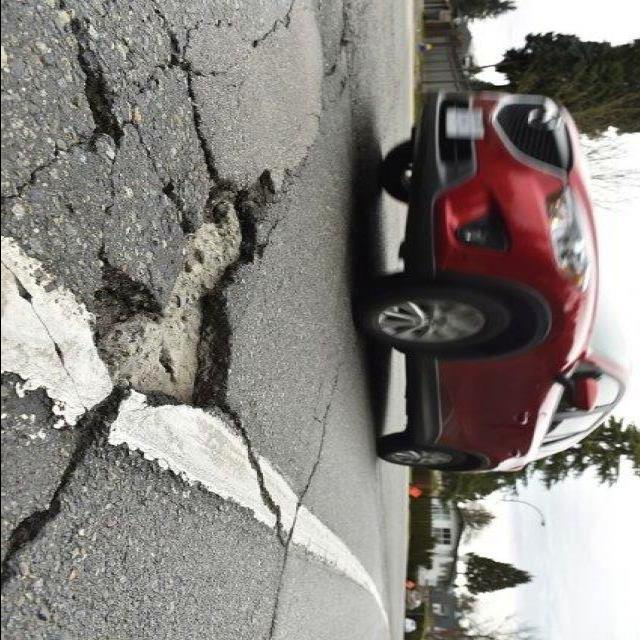jalan retak: (46, 0, 248, 178), (0, 411, 124, 624), (0, 238, 89, 386), (228, 432, 322, 564), (0, 125, 110, 223), (289, 0, 377, 116), (128, 446, 248, 522), (278, 96, 332, 214), (284, 352, 350, 446), (238, 556, 306, 638), (67, 382, 144, 452), (238, 0, 304, 62), (215, 404, 275, 456)
lubang: (68, 159, 286, 443)
